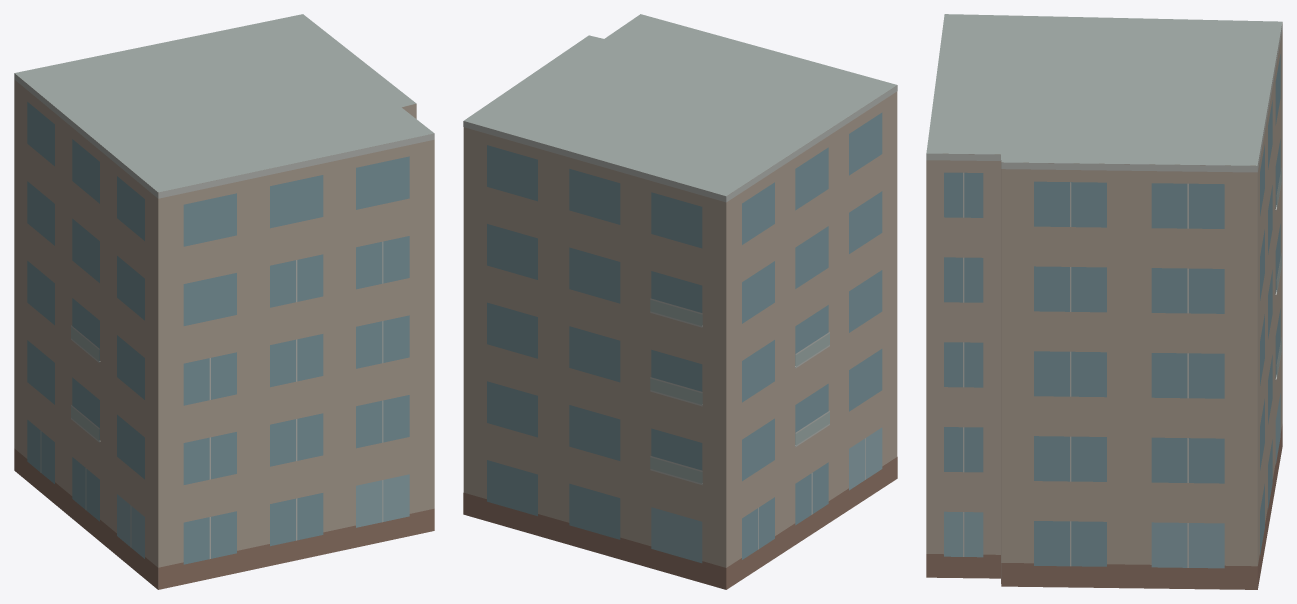
File: survey-upis-32868743.glb
3 renders of one model, left to right at view 1: azimuth 30°, elevation 25°; view 2: azimuth 150°, elevation 25°; view 3: azimuth 270°, elevation 25°, orthographic. The views are drawn at different scales.
Visible parts, largest first — view 1: survey-upis-32868743.tmp; view 2: survey-upis-32868743.tmp; view 3: survey-upis-32868743.tmp.
Boxes of the visible parts, x1=… form: survey-upis-32868743.tmp: x1=14, y1=14, x2=434, y2=589; survey-upis-32868743.tmp: x1=463, y1=14, x2=897, y2=589; survey-upis-32868743.tmp: x1=926, y1=14, x2=1282, y2=589.
Size of the model in its own units: 11.91 by 15.5 by 11.81.
